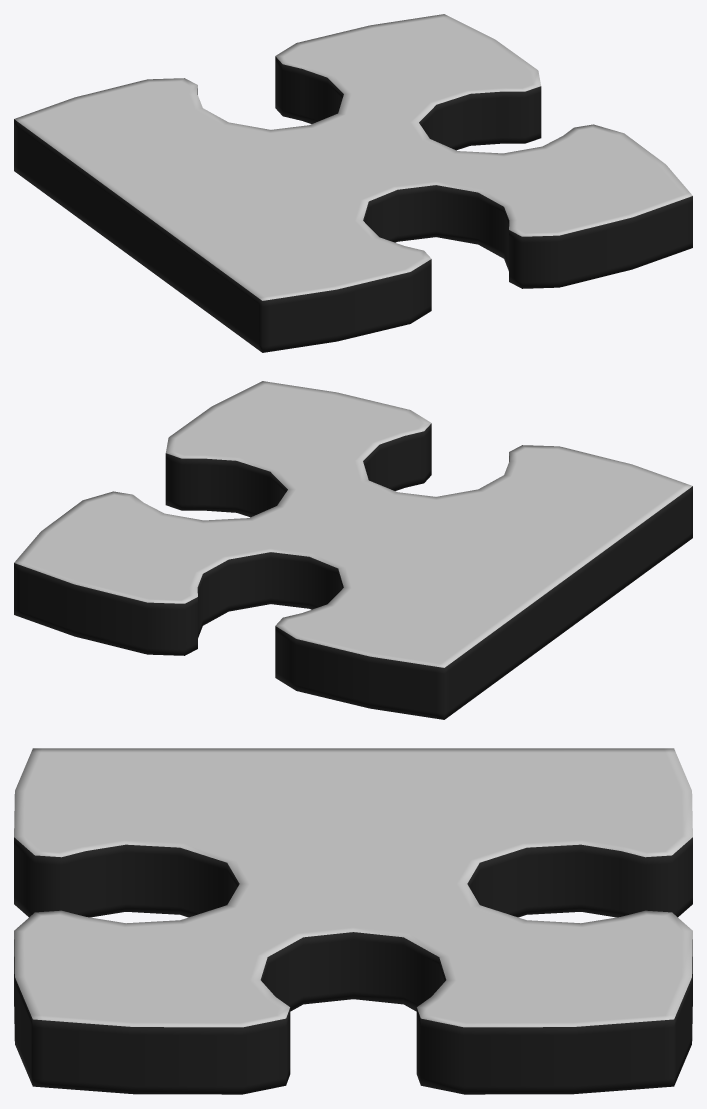
3 views of the same model, one above another, from view 1: azimuth 30°, elevation 25°; view 2: azimuth 150°, elevation 25°; view 3: azimuth 270°, elevation 25° (orthographic). The views are drawn at different scales.
Visible parts, largest first — view 1: puzzle57; view 2: puzzle57; view 3: puzzle57.
Boxes of the visible parts, <box> form: puzzle57: <box>14,14,692,352</box>; puzzle57: <box>14,381,692,719</box>; puzzle57: <box>14,748,692,1094</box>.
Bounding box in the file's own units: 3.07 × 0.344 × 3.15.
